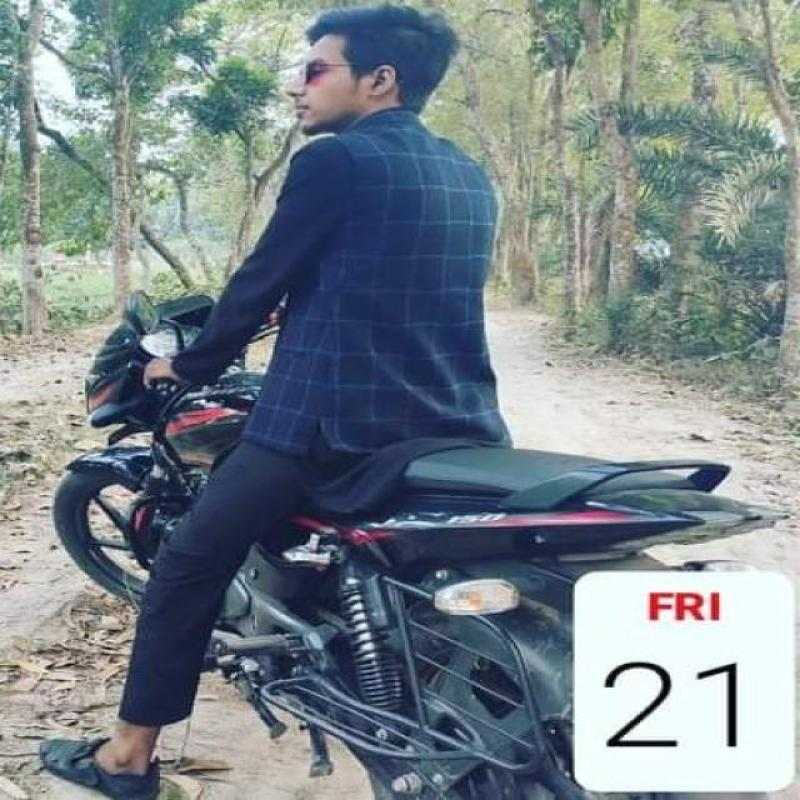nohelmet: (262, 2, 457, 138)
